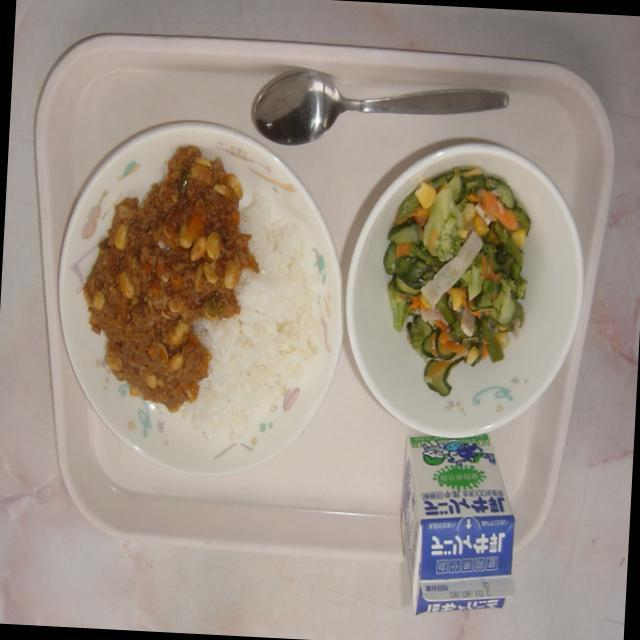Beef Curry: (98, 165, 254, 408)
Green Salad: (391, 179, 528, 376)
